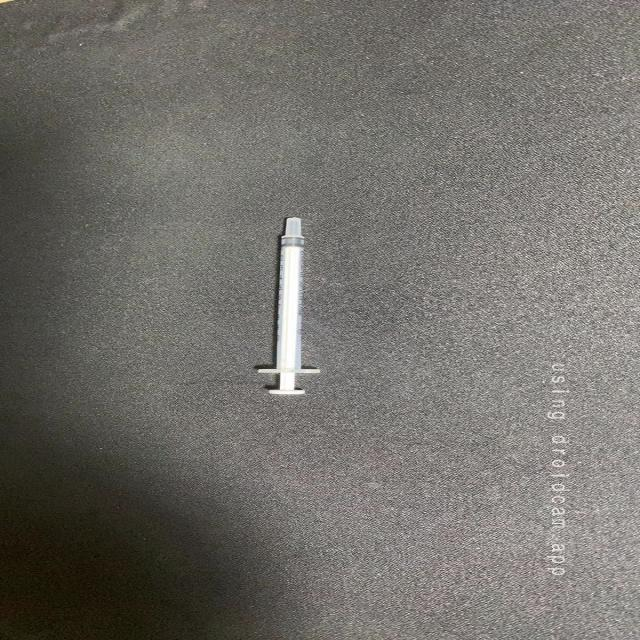syringe: (252, 212, 326, 400)
